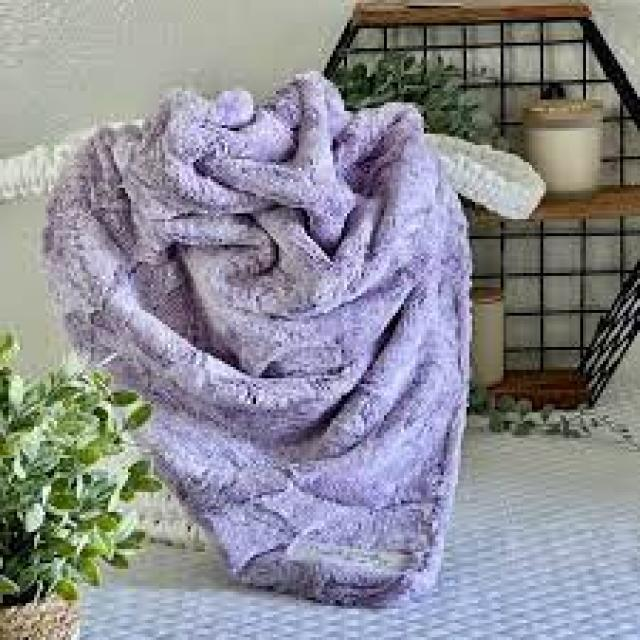blanket: (47, 73, 545, 603)
